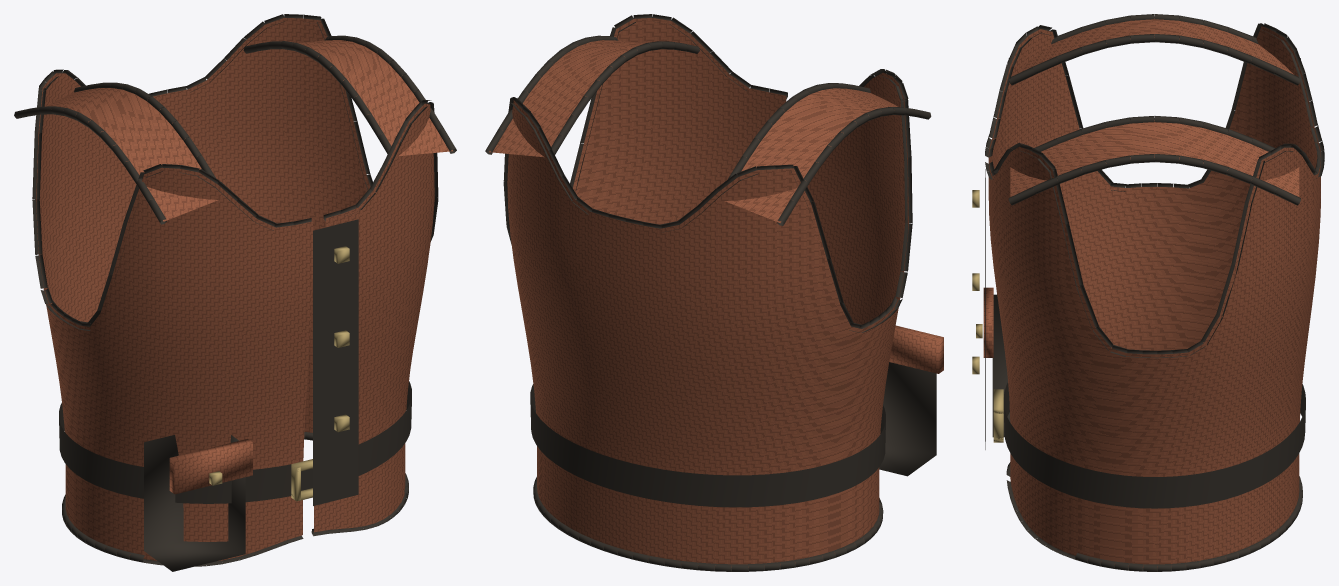
The picture shows the model from 3 angles, left to right: view 1: azimuth 30°, elevation 25°; view 2: azimuth 150°, elevation 25°; view 3: azimuth 270°, elevation 25°; orthographic projection.
Visible parts, largest first — view 1: Trail_Jerkin; view 2: Trail_Jerkin; view 3: Trail_Jerkin.
Boxes of the visible parts, <box> form: Trail_Jerkin: <box>14,14,456,571</box>; Trail_Jerkin: <box>485,14,943,571</box>; Trail_Jerkin: <box>972,14,1324,571</box>.
Size of the model in its own units: 0.4832 by 0.5573 by 0.4218.
3 materials, 1 textured.
